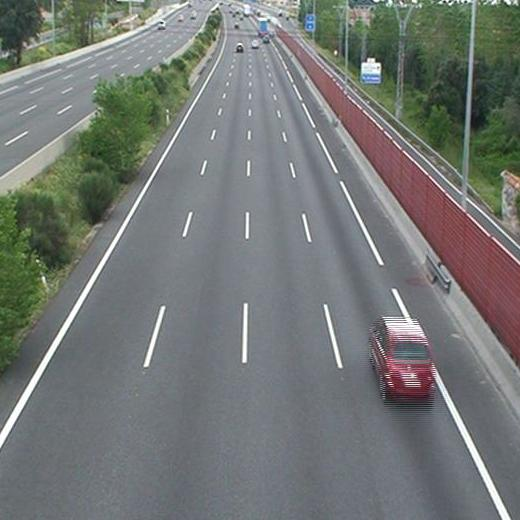car: (371, 319, 434, 398), (236, 43, 245, 53), (250, 39, 259, 48)
